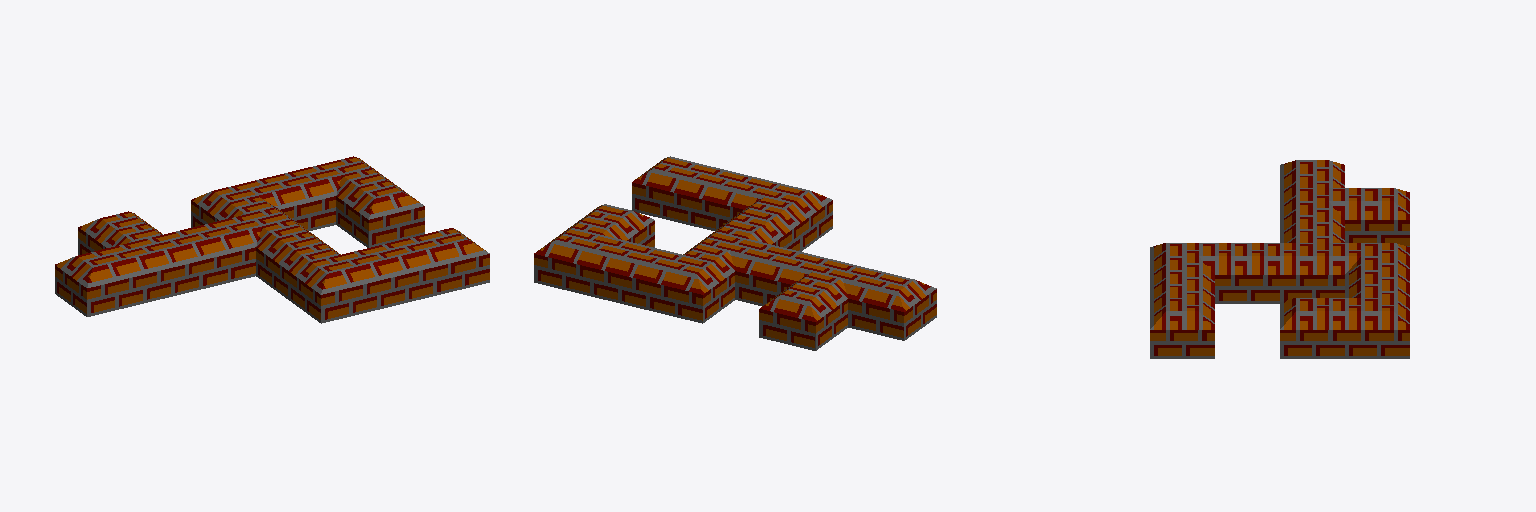
The picture shows the model from 3 angles: view 1: azimuth 30°, elevation 25°; view 2: azimuth 150°, elevation 25°; view 3: azimuth 270°, elevation 25°; orthographic projection.
Visible parts, largest first — view 1: Muros11; view 2: Muros11; view 3: Muros11.
Boxes of the visible parts, <box> form: Muros11: <box>55,156,489,323</box>; Muros11: <box>534,156,936,350</box>; Muros11: <box>1150,160,1409,358</box>.
Size of the model in its own units: 0.3833 by 0.0438 by 0.2556.
Materials: 1 (1 with a texture image).